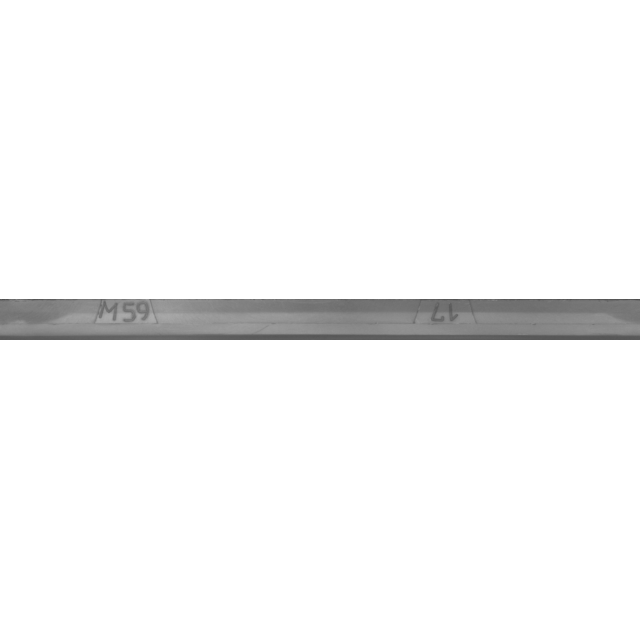mohao: (24, 270, 224, 370)
xuehao: (347, 270, 547, 370)
